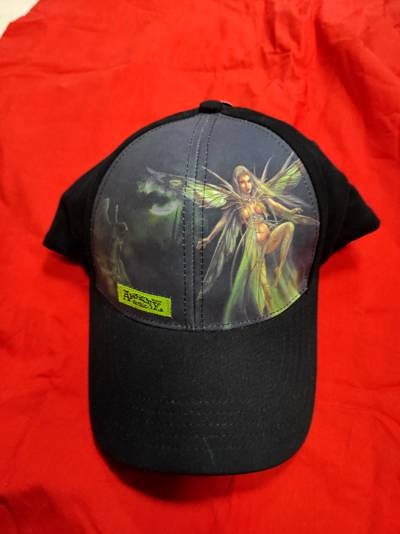Hat: (21, 75, 394, 488)
